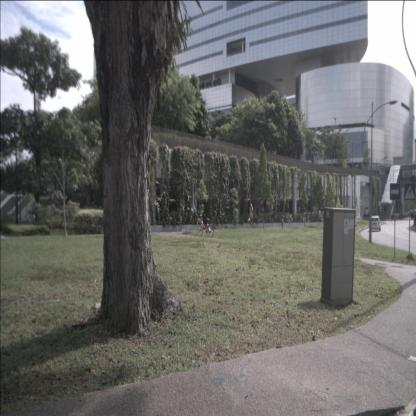human-pedestrian-adult: (248, 203, 254, 228)
vehicle-bicycle: (197, 214, 214, 238)
vehicle-car: (370, 216, 381, 231), (411, 210, 416, 221)
